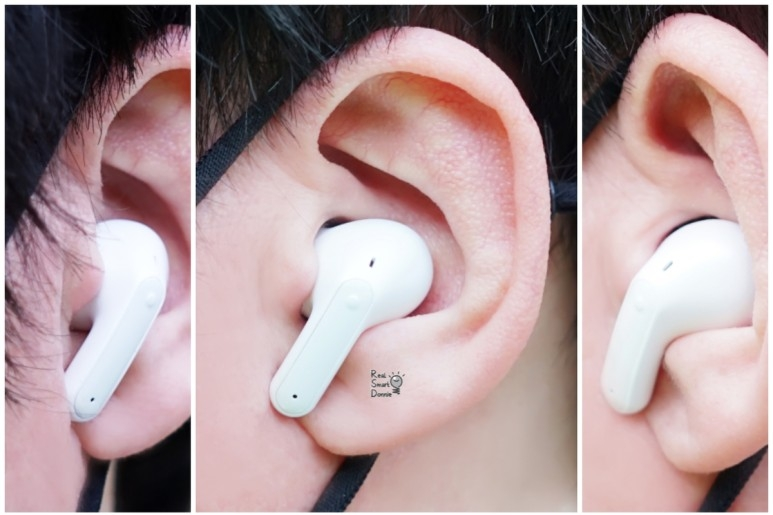earphone: (267, 25, 554, 457), (617, 13, 767, 474), (64, 23, 192, 460)
